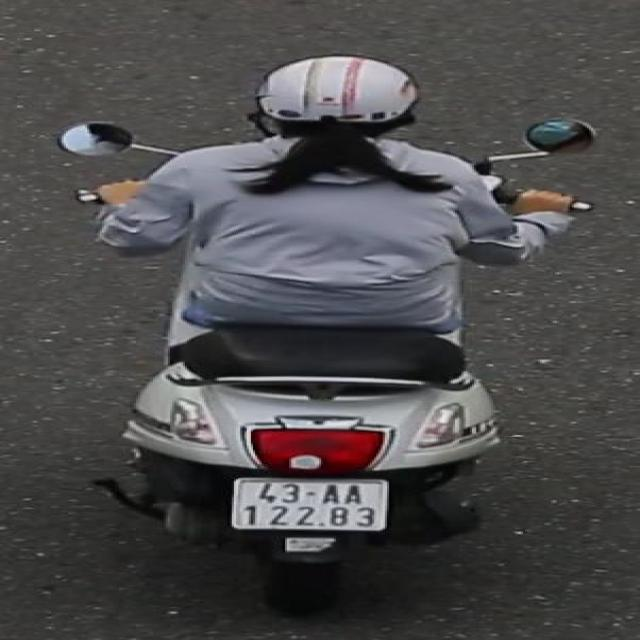LP: (208, 466, 406, 541)
helmet: (248, 51, 428, 153)
